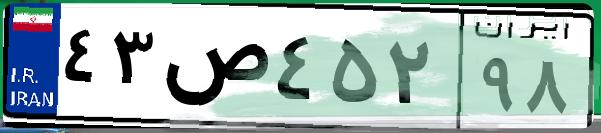2: (385, 28, 445, 110)
3: (110, 28, 158, 98)
4: (270, 28, 330, 110), (57, 26, 110, 100)
5: (330, 28, 385, 110)
8: (525, 38, 570, 115)
9: (475, 38, 525, 113)
ص: (158, 20, 270, 120)
